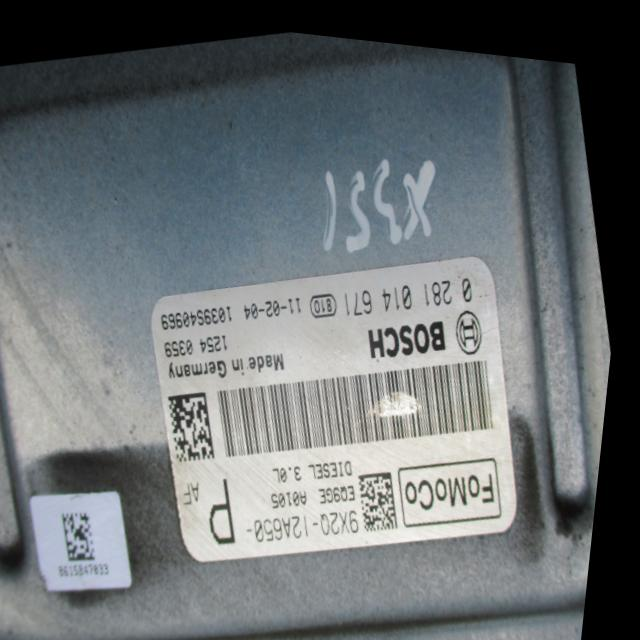datamatrix: (171, 383, 229, 461), (362, 458, 412, 525), (68, 504, 111, 562)
